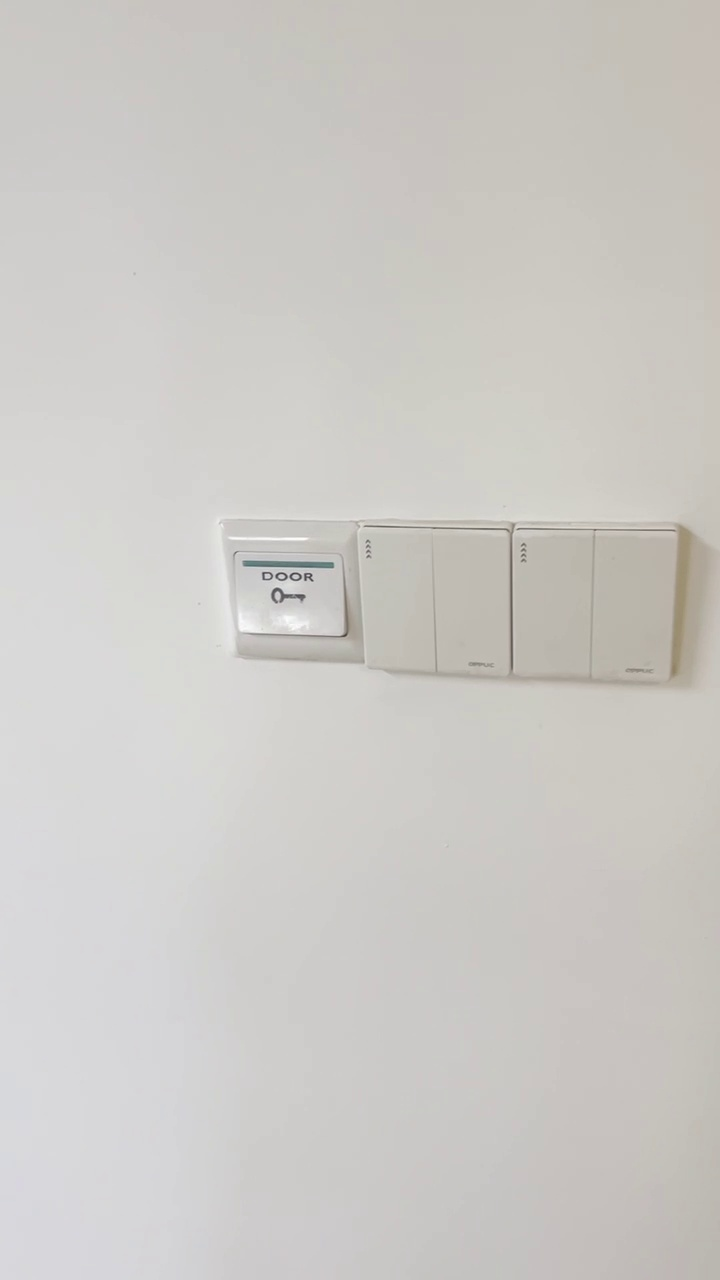button: (509, 517, 689, 685), (351, 510, 510, 684)
